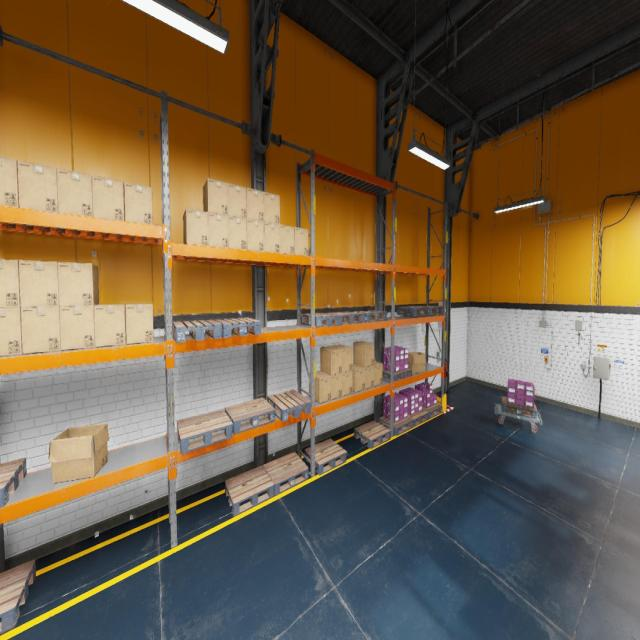box: (48, 423, 109, 483), (17, 160, 58, 212), (18, 260, 59, 307), (20, 306, 60, 354), (58, 262, 99, 306), (57, 168, 93, 217), (59, 306, 95, 350), (92, 175, 125, 220), (94, 304, 126, 348), (124, 181, 153, 225), (125, 303, 154, 344), (0, 307, 22, 356), (0, 156, 19, 207), (0, 259, 20, 307), (183, 208, 208, 246), (203, 178, 228, 215), (309, 370, 331, 403), (208, 212, 228, 248), (228, 216, 247, 250), (320, 346, 342, 375), (228, 183, 246, 218), (246, 187, 264, 221), (331, 344, 352, 373), (353, 341, 374, 367), (247, 219, 264, 251), (264, 191, 280, 224), (354, 364, 374, 389), (264, 222, 280, 252), (280, 224, 294, 254), (408, 351, 426, 373), (352, 363, 365, 392), (295, 227, 308, 255), (331, 374, 342, 399), (342, 371, 352, 396), (374, 361, 382, 386)
pallets: (0, 559, 36, 634), (225, 465, 274, 516), (177, 409, 232, 453), (263, 452, 308, 496), (224, 398, 275, 433), (304, 438, 346, 474), (267, 389, 311, 422), (0, 457, 26, 507), (172, 319, 222, 342), (354, 420, 391, 449), (213, 317, 260, 337), (501, 396, 537, 418), (379, 416, 413, 436), (301, 312, 341, 327), (324, 311, 364, 324), (382, 367, 412, 381), (354, 310, 386, 322), (408, 409, 428, 427), (422, 403, 442, 419), (397, 306, 429, 315), (412, 305, 443, 314)
